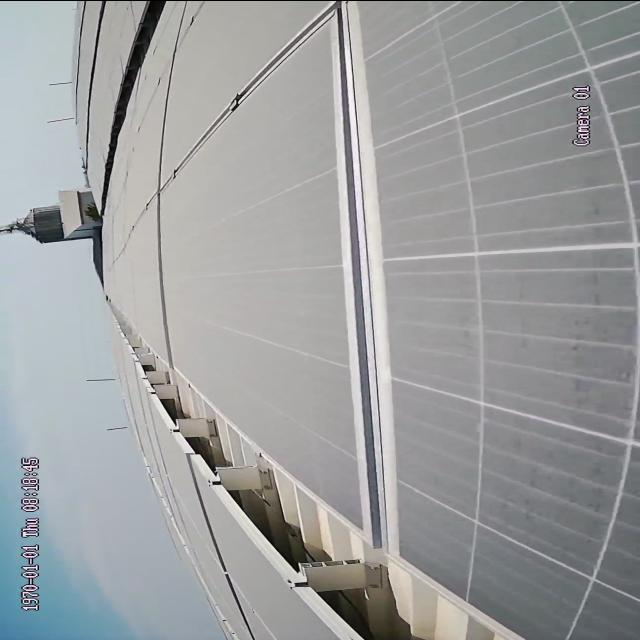interior panel: (331, 14, 403, 537), (153, 4, 332, 192)
outher panel: (114, 312, 523, 639)
